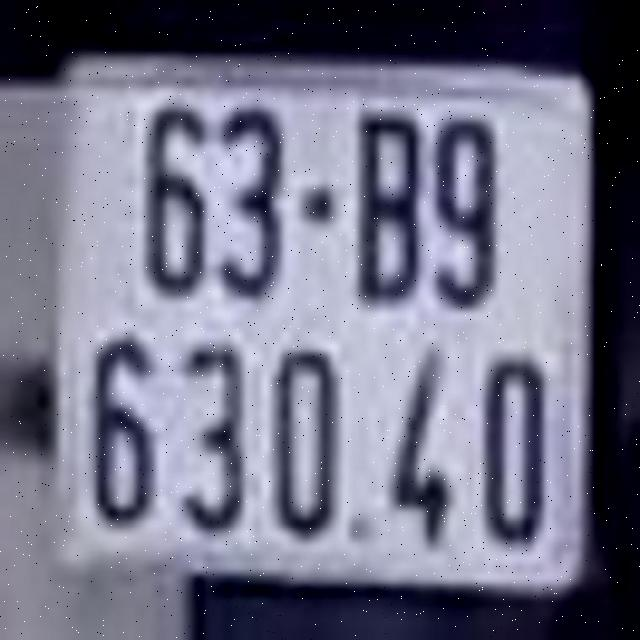0: (269, 335, 342, 538), (480, 343, 550, 546)
3: (178, 330, 248, 533), (217, 100, 284, 300)
4: (387, 334, 457, 548)
6: (140, 99, 208, 296), (90, 333, 158, 528)
9: (432, 107, 500, 311)
B: (352, 102, 424, 308)
